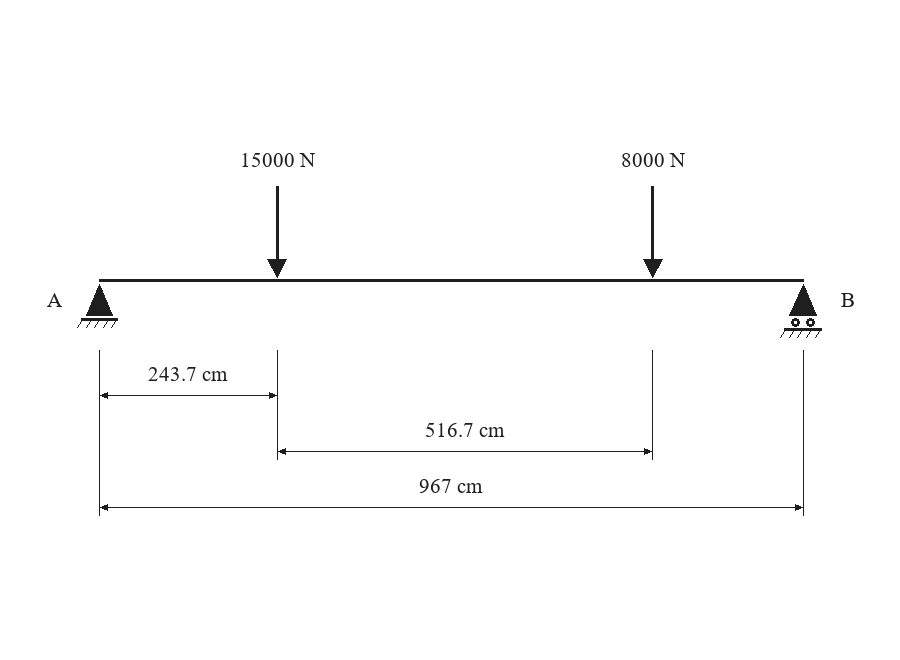pin_support: (77, 284, 118, 328)
point_load: (267, 186, 287, 278), (643, 186, 663, 278)
roller_support: (780, 284, 822, 338)
